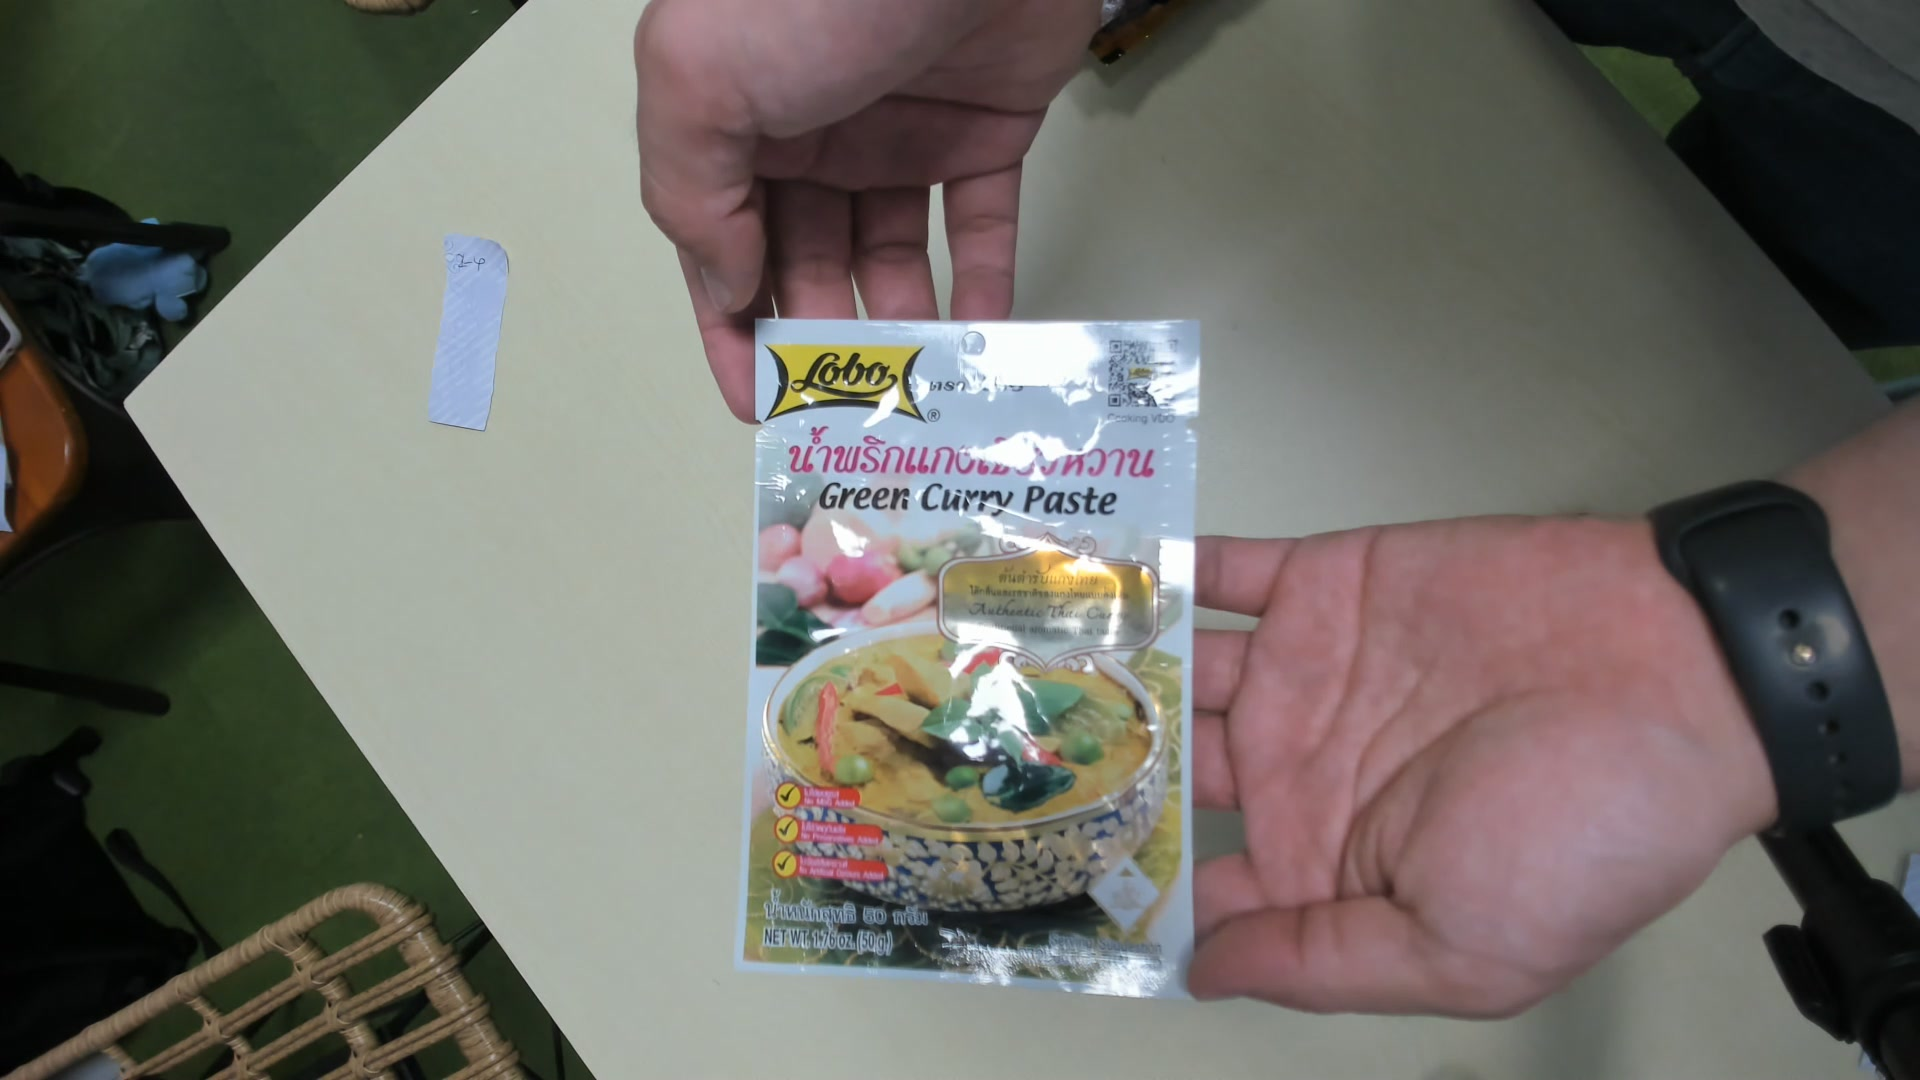OtherSauceDressing_0-99g_Halal_NonHealthy: (742, 309, 1200, 1010)
